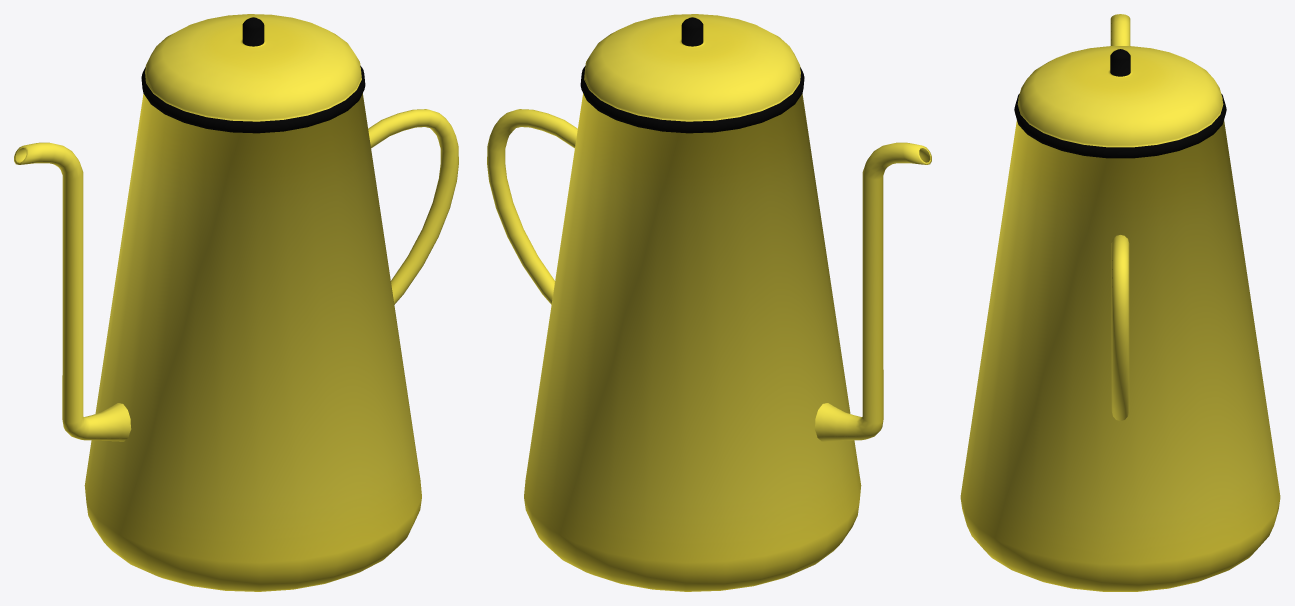
The model's file is coffee_pot.glb.
3 renders of one model, left to right at view 1: azimuth 30°, elevation 25°; view 2: azimuth 150°, elevation 25°; view 3: azimuth 270°, elevation 25°, orthographic. The views are drawn at different scales.
Parts seen in each view (by area): view 1: Cylinder; view 2: Cylinder; view 3: Cylinder.
Boxes of the visible parts, x1,y1,x2,y2 form: Cylinder: (14,14,458,591); Cylinder: (487,14,931,591); Cylinder: (960,14,1280,591).
Bounding box in the file's own units: 0.8342 × 0.9279 × 0.5534.
Materials: 1 (1 with a texture image).
